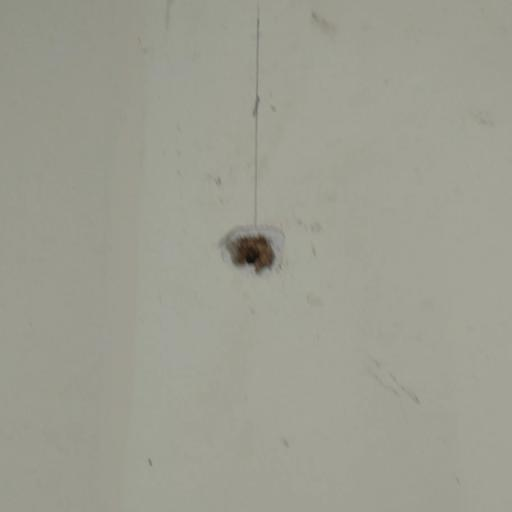spalling: (209, 186, 322, 283)
